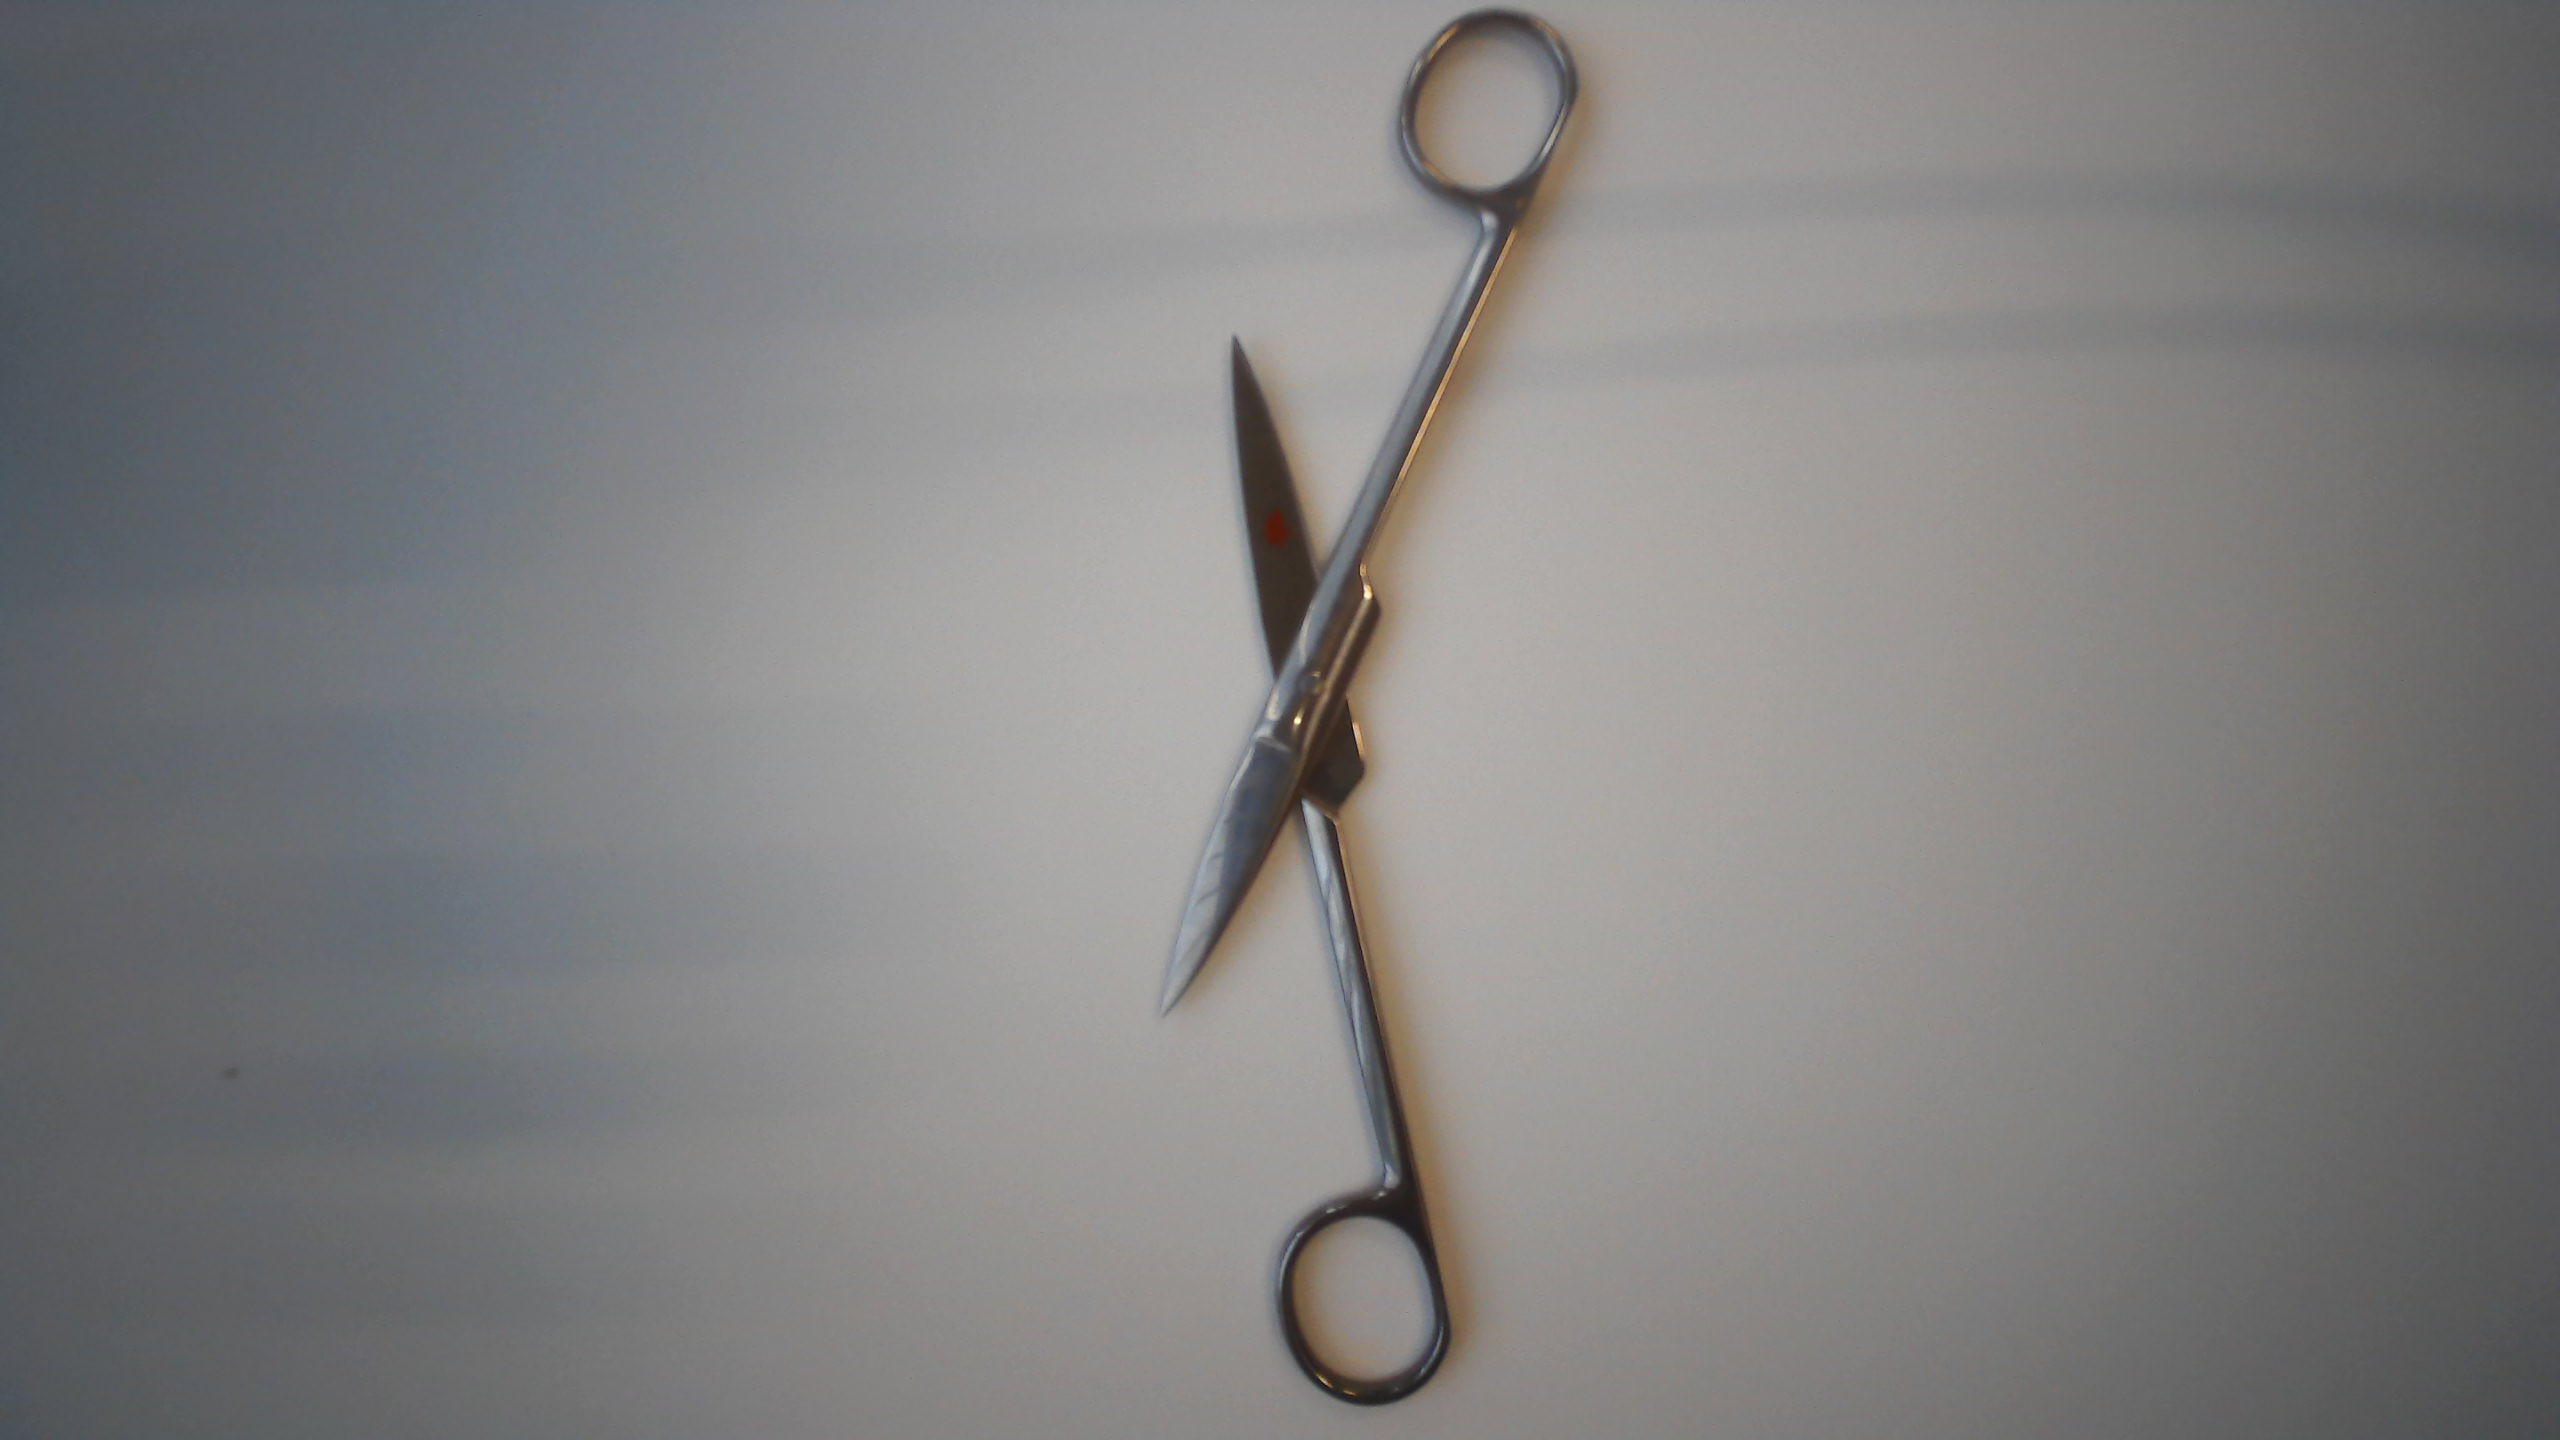Stain: (1248, 494, 1292, 554)
